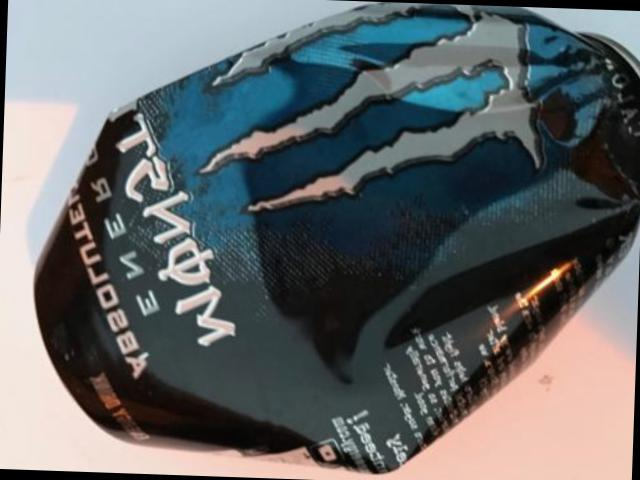metal: (34, 5, 640, 475)
